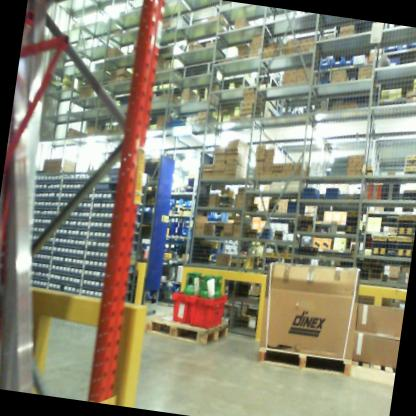pallet: (140, 300, 239, 354), (254, 333, 351, 378), (346, 352, 396, 383)
small_load_carrier: (186, 290, 232, 335), (163, 282, 192, 329)
